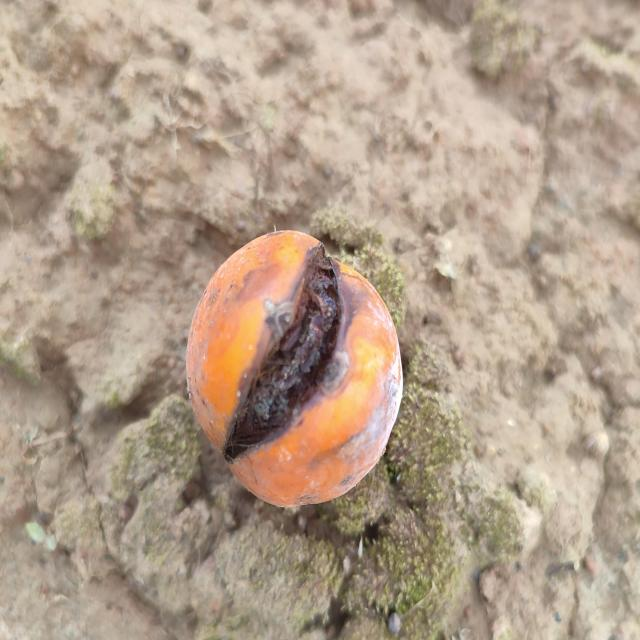damaged: (186, 231, 403, 507)
